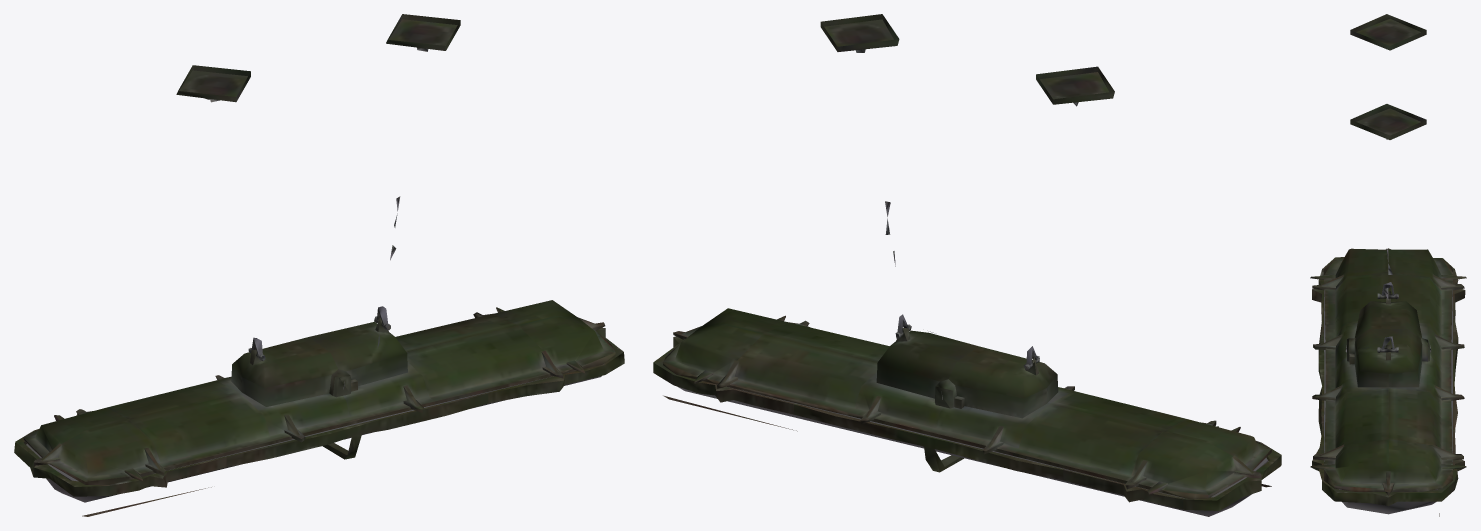
File: lampCaged.glb
The picture shows the model from 3 angles, left to right: view 1: azimuth 30°, elevation 25°; view 2: azimuth 150°, elevation 25°; view 3: azimuth 270°, elevation 25°; orthographic projection. The views are drawn at different scales.
Visible parts, largest first — view 1: caged_hanging_light; view 2: caged_hanging_light; view 3: caged_hanging_light.
Boxes of the visible parts, x1,y1,x2,y2 form: caged_hanging_light: (14, 14, 624, 516); caged_hanging_light: (653, 14, 1281, 516); caged_hanging_light: (1310, 14, 1466, 516).
Size of the model in its own units: 1.16 by 0.7501 by 0.3149.
1 material, 1 textured.
